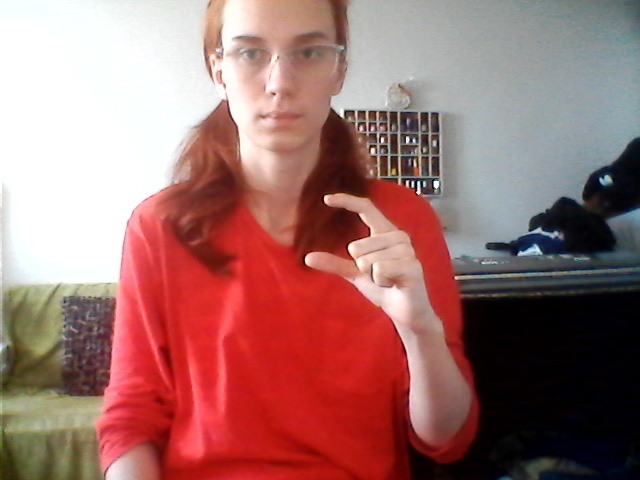c: (293, 192, 435, 332)
